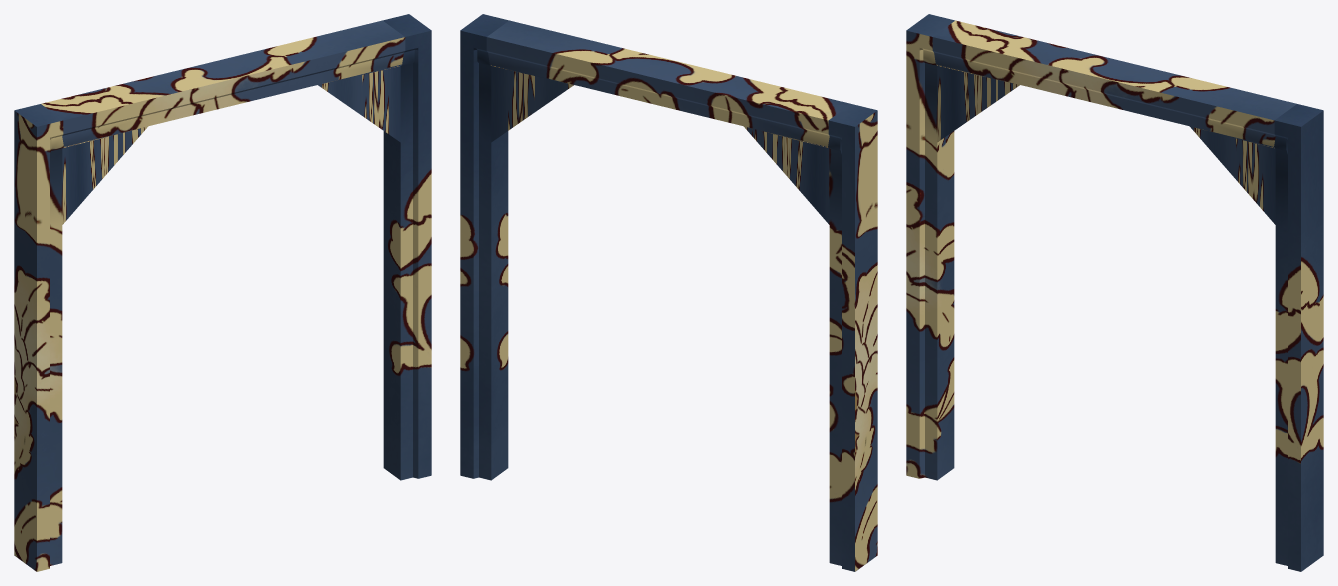
File: FramugaNoDoor.fbx
3 renders of one model, left to right at view 1: azimuth 30°, elevation 25°; view 2: azimuth 150°, elevation 25°; view 3: azimuth 330°, elevation 25°, orthographic.
Visible parts, largest first — view 1: Framuga_No_Doors; view 2: Framuga_No_Doors; view 3: Framuga_No_Doors.
Boxes of the visible parts, x1,y1,x2,y2 form: Framuga_No_Doors: [14, 14, 431, 571]; Framuga_No_Doors: [460, 14, 877, 571]; Framuga_No_Doors: [906, 14, 1323, 571].
Bounding box in the file's own units: 520 × 560 × 51.63.
